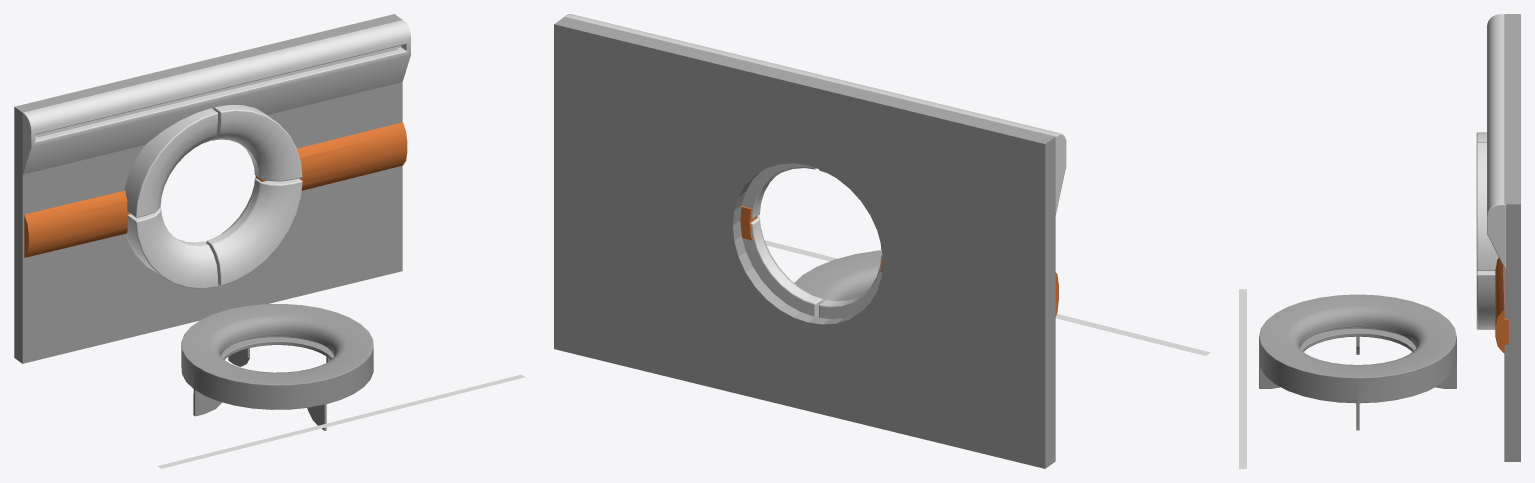
Rendered from WindowWall.fbx.
3 renders of one model, left to right at view 1: azimuth 30°, elevation 25°; view 2: azimuth 150°, elevation 25°; view 3: azimuth 270°, elevation 25°, orthographic. The views are drawn at different scales.
Parts seen in each view (by area): view 1: Wall_Base.002, WallTop.002, Doorway, Circle.001, OrangeStuffEven, Led.002; view 2: Wall_Base.002, Doorway, WallTop.002, Circle.001, Led.002; view 3: Circle.001, Wall_Base.002, WallTop.002, Doorway, Led.002, OrangeStuffEven.
Boxes of the visible parts, x1=… form: Wall_Base.002: x1=14, y1=14, x2=402, y2=363; WallTop.002: x1=22, y1=20, x2=410, y2=174; Doorway: x1=124, y1=105, x2=302, y2=288; Circle.001: x1=181, y1=304, x2=373, y2=430; OrangeStuffEven: x1=24, y1=122, x2=407, y2=257; Led.002: x1=157, y1=374, x2=524, y2=468; Wall_Base.002: x1=554, y1=16, x2=1055, y2=468; Doorway: x1=741, y1=163, x2=882, y2=318; WallTop.002: x1=565, y1=14, x2=1066, y2=214; Circle.001: x1=794, y1=250, x2=882, y2=301; Led.002: x1=764, y1=240, x2=1210, y2=355; Circle.001: x1=1259, y1=294, x2=1456, y2=430; Wall_Base.002: x1=1504, y1=14, x2=1520, y2=461; WallTop.002: x1=1487, y1=14, x2=1505, y2=270; Doorway: x1=1476, y1=132, x2=1498, y2=329; Led.002: x1=1239, y1=289, x2=1246, y2=468; OrangeStuffEven: x1=1495, y1=258, x2=1508, y2=353.
Bounding box in the file's own units: 8.16 × 5.65 × 5.1.
